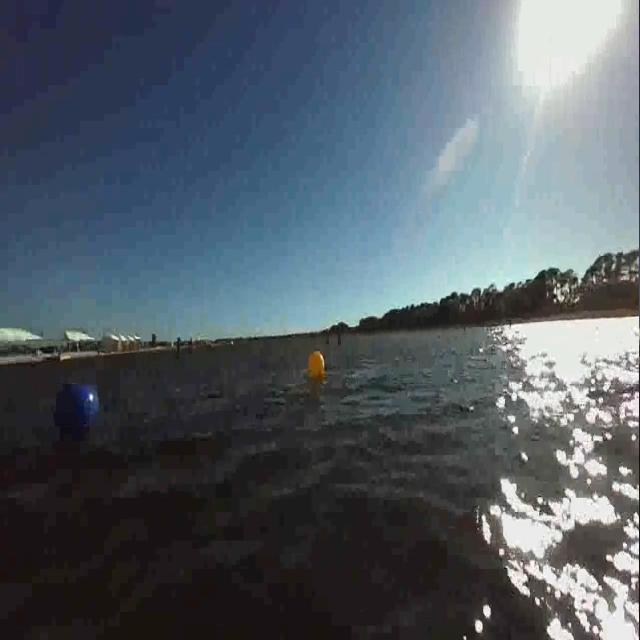blue-buoy: (57, 376, 98, 442)
yellow-buoy: (307, 349, 324, 379)
